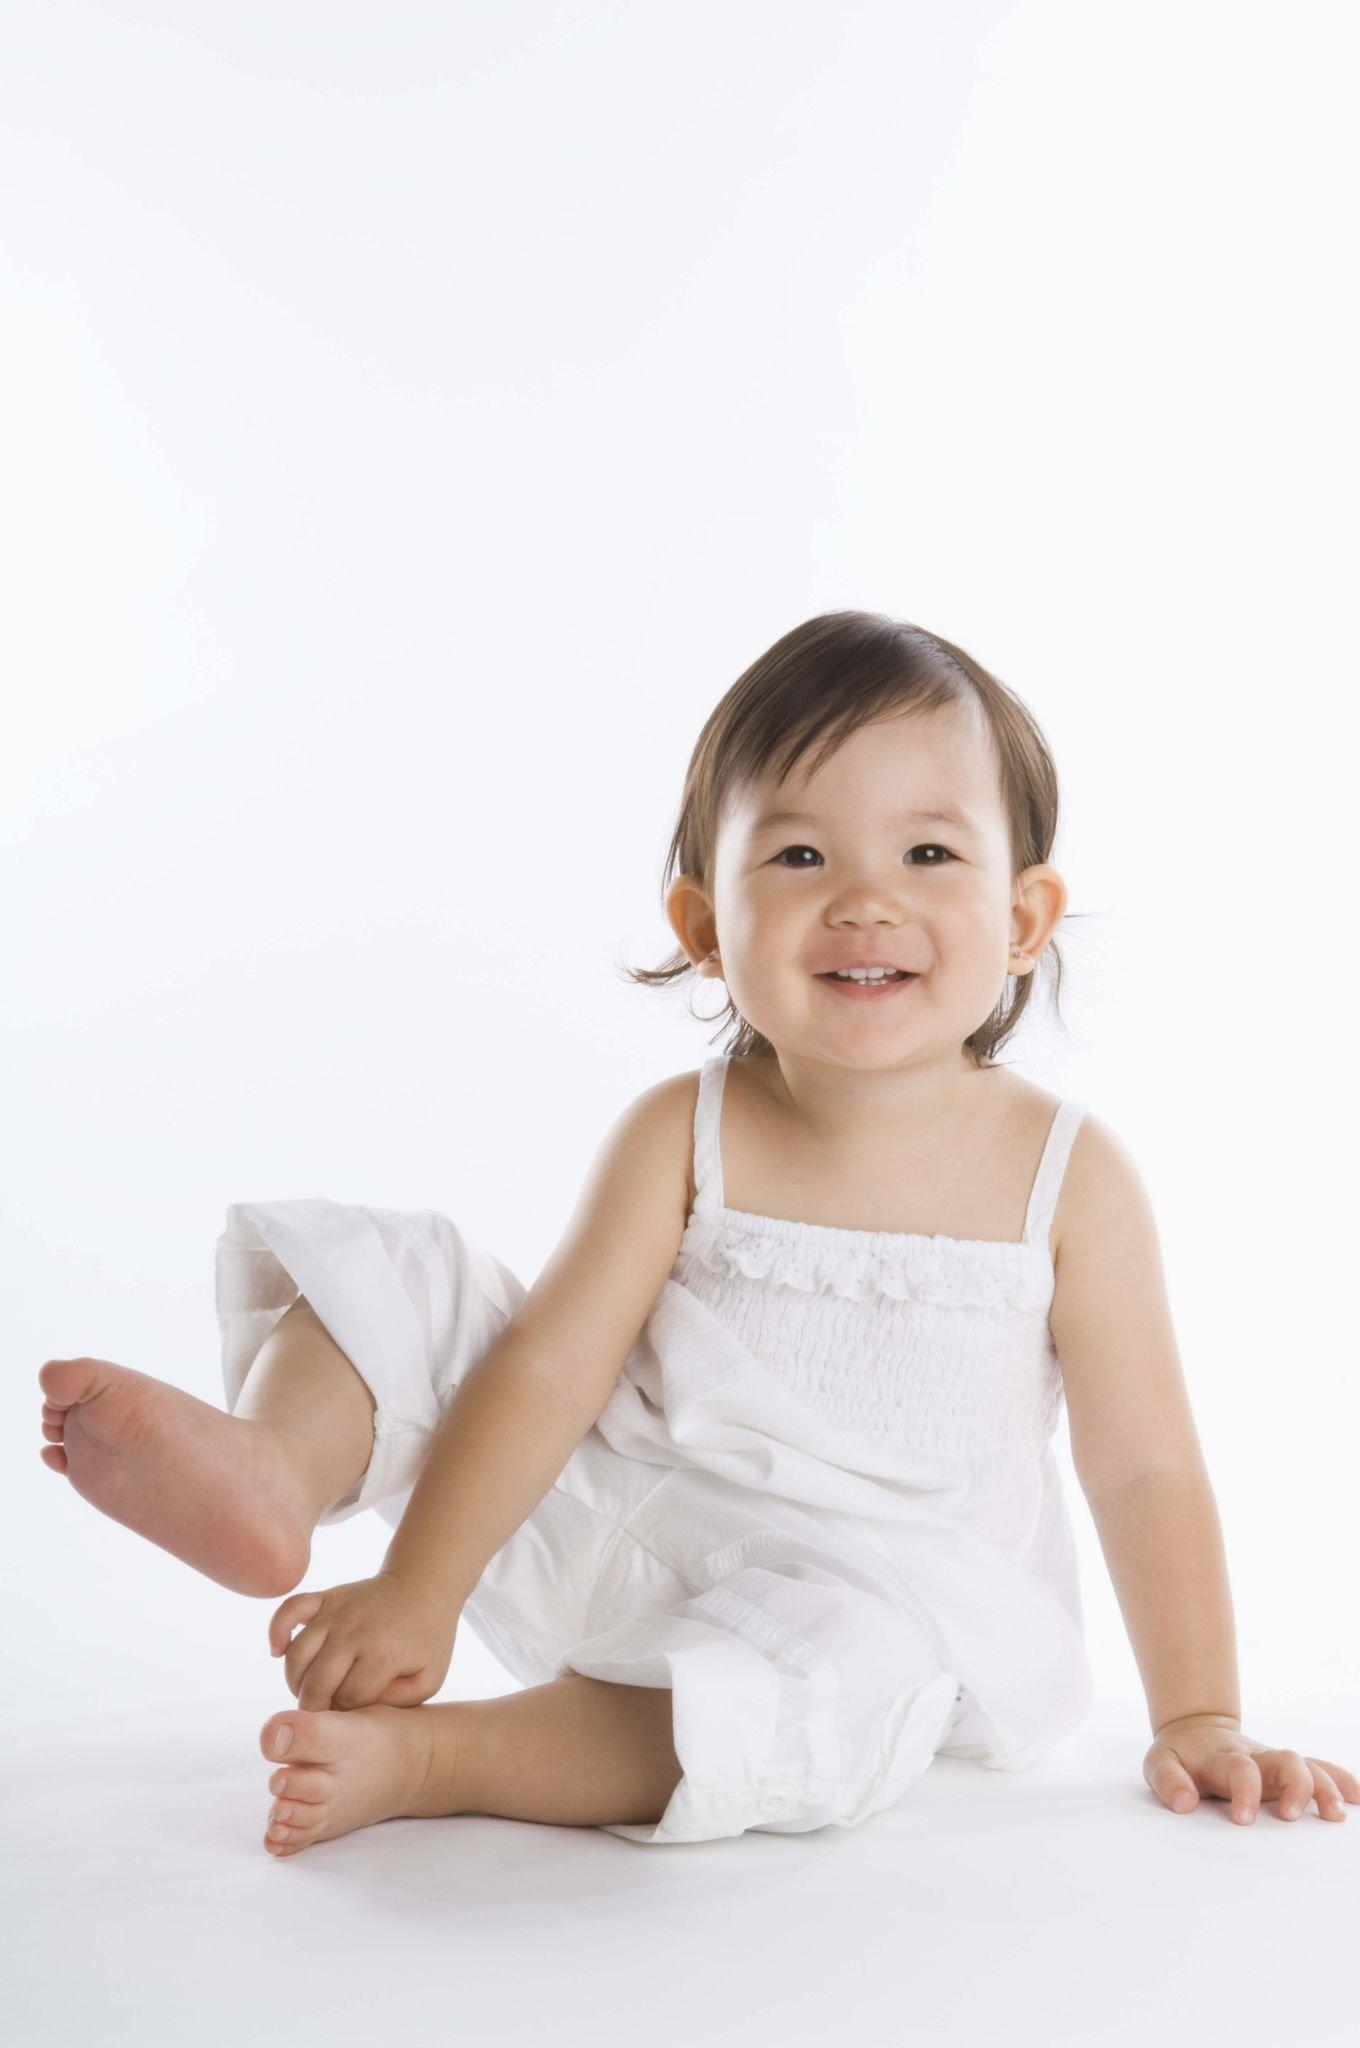Healthy: (660, 619, 1064, 1106)
